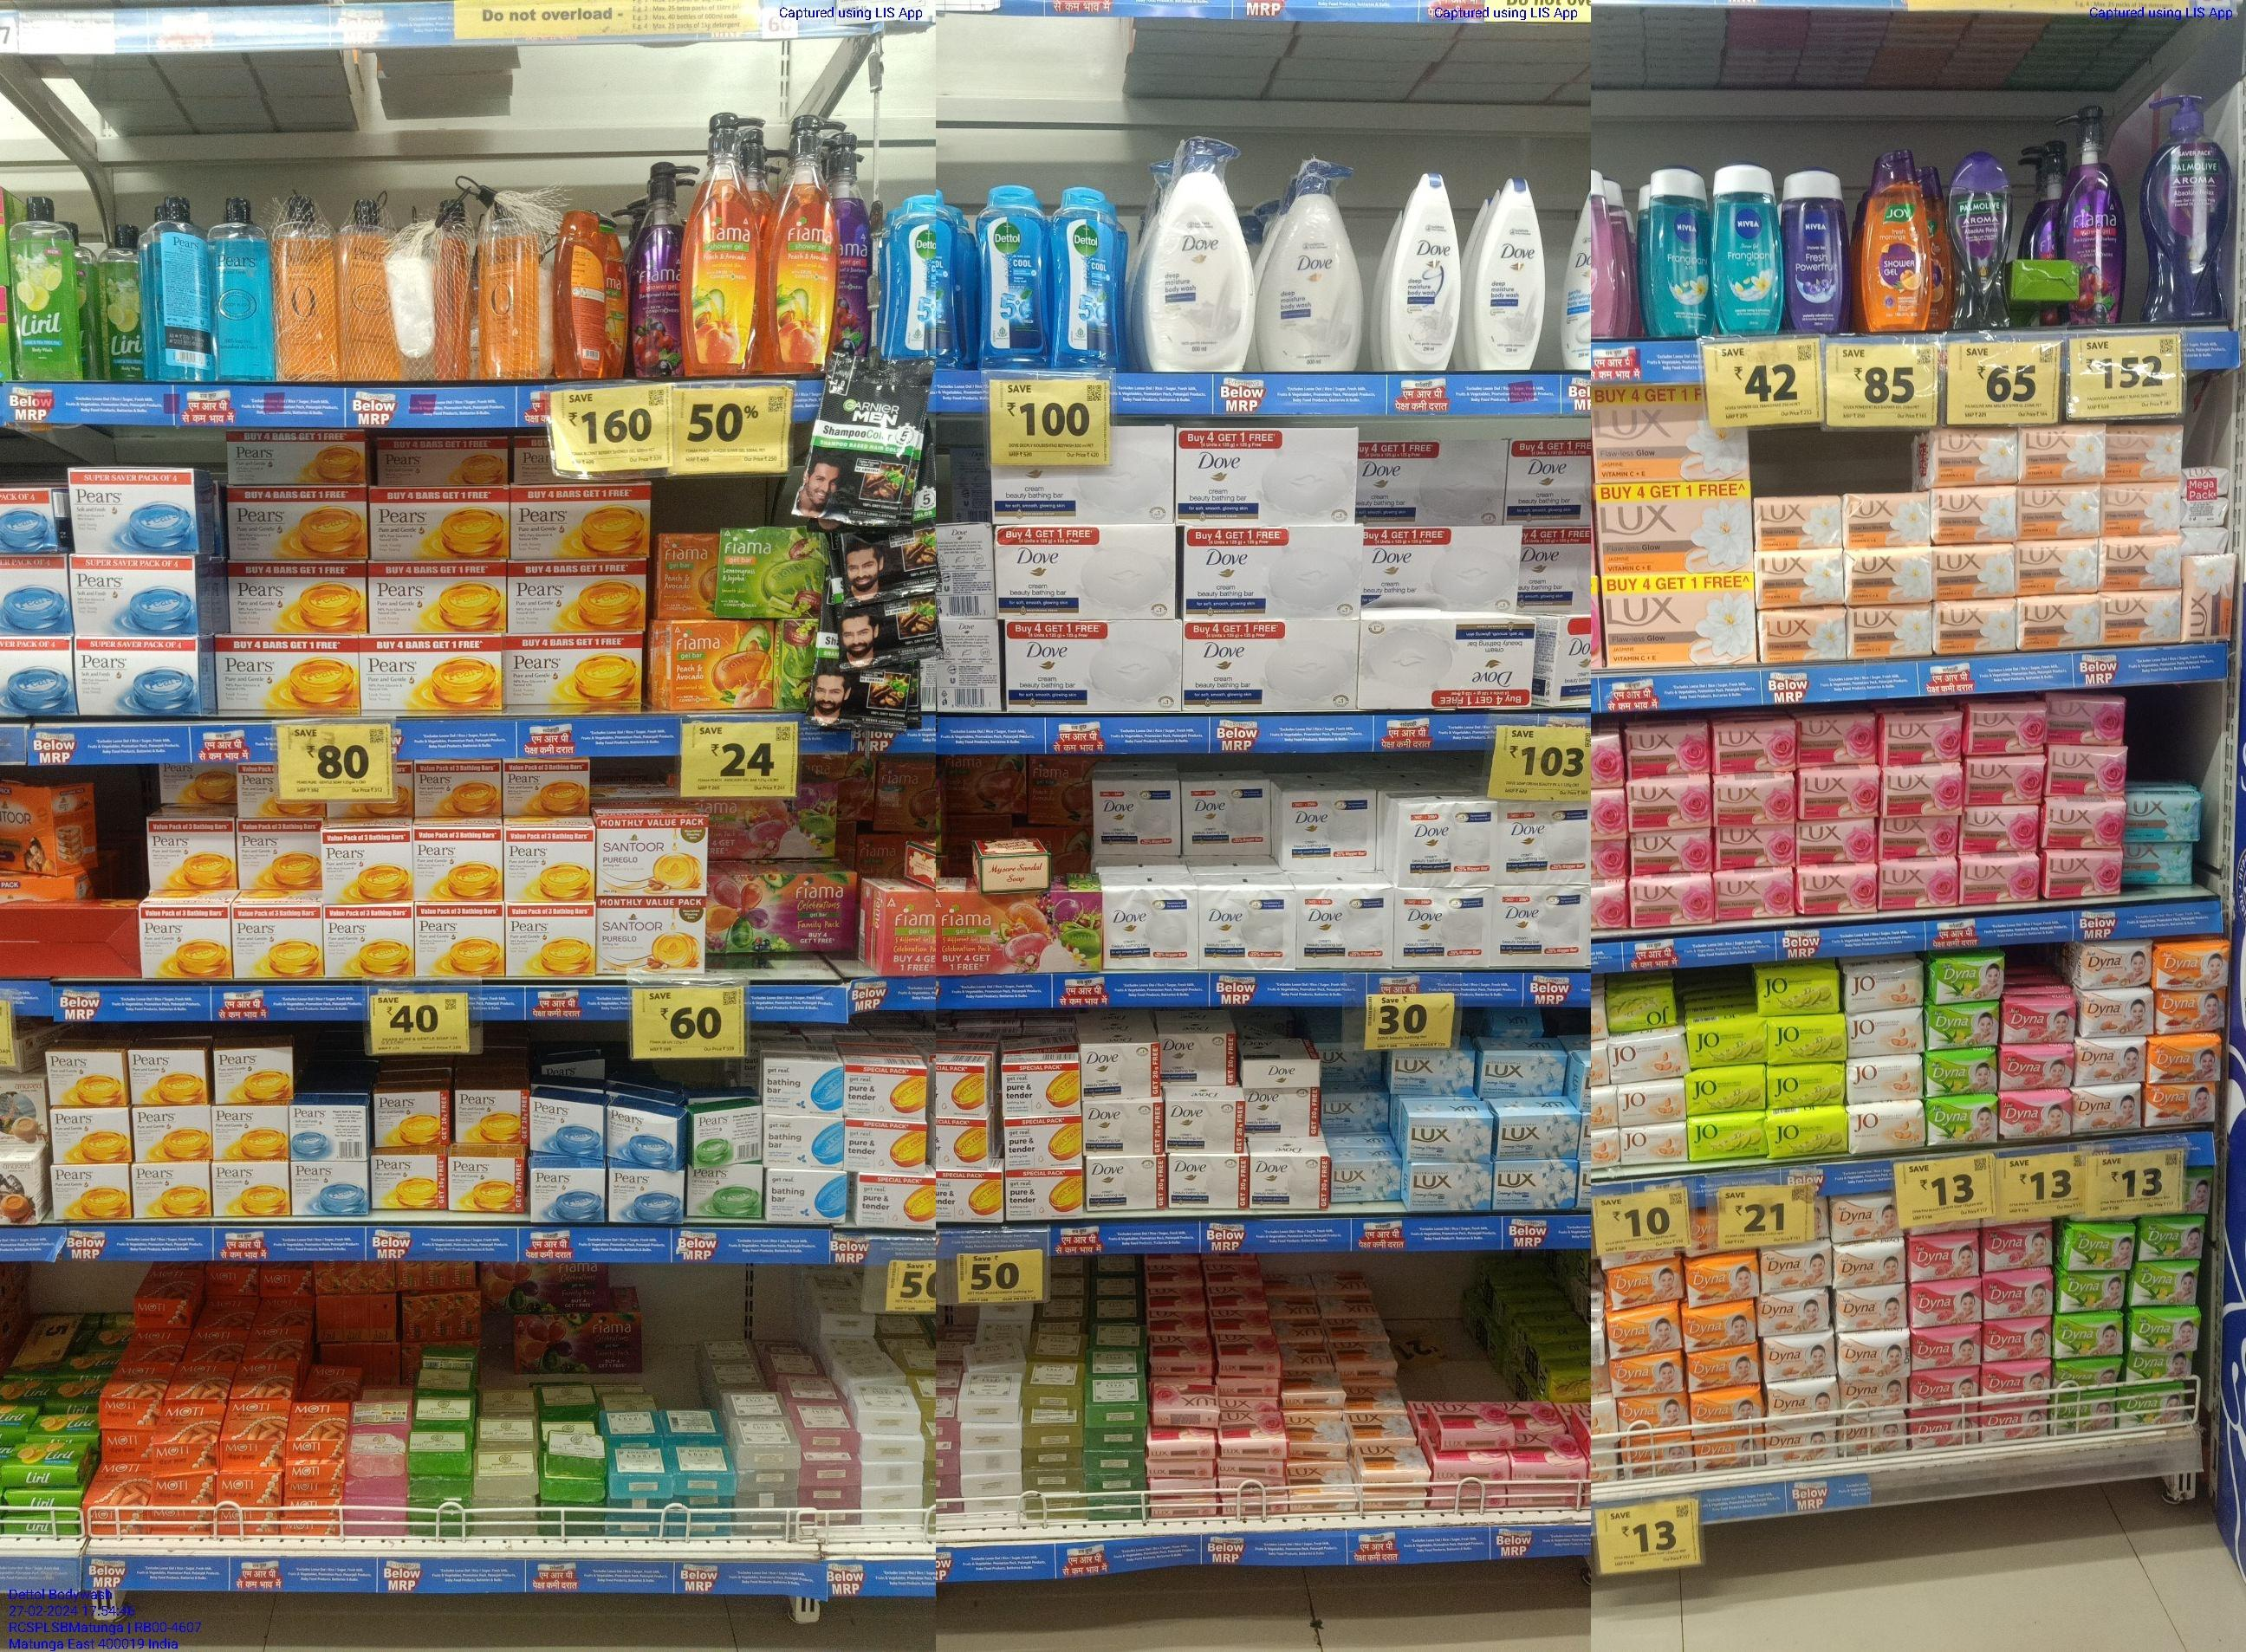Dettol_Bodywash_Cool: (978, 183, 1048, 366), (1055, 181, 1120, 364), (888, 188, 938, 357)
Dove_Deep_Moisture_Body_Wash_250ML: (1393, 167, 1458, 373), (1480, 176, 1547, 373)
Joy_Shower_Gel_Mandarin_and_Lemongrass_250ML: (1869, 150, 1932, 335)
Liril_Lime_and_Tea_Tree_Oil_Body_Wash_250ML: (12, 192, 78, 382), (99, 221, 146, 383)
Nivea_Shower_Gel_Frangipani_and_Oil_250ML: (1711, 162, 1780, 338), (1648, 166, 1711, 343)
Nivea_Shower_Gel_Fresh_Powerfruit_250ML: (1782, 167, 1847, 333)
Palmolive_Aroma_Relax_250ML: (1948, 150, 2012, 331)
Pears_Pure_Glycerin_and_Mint_Extracts_Body_Wash_250ML: (209, 195, 279, 383)
